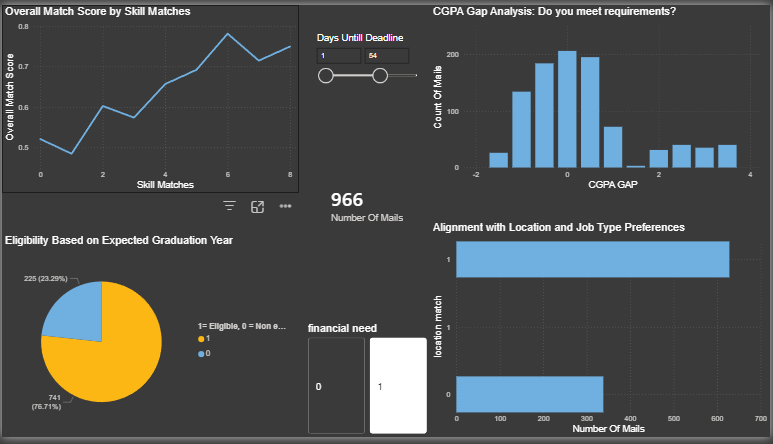

What the dashboard file says about the page in this screenshot:
{"tool":"powerbi","page":{"name":"Page 2","canvas":[1280,720],"ordinal":1},"visuals":[{"type":"lineChart","fields":{"Category":["match_scores.skills_overlap_count"],"Y":["Avg(match_scores.match_score)"]},"box":[0,0,495,313.3],"z":0},{"type":"clusteredColumnChart","title":"CGPA Gap Analysis: Do you meet requirements?","fields":{"Category":["match_scores.CGPA GAP"],"Y":["CountNonNull(match_scores.Row_Index)"]},"box":[712.9,0,557.1,312.9],"z":1000},{"type":"barChart","title":"Alignment with Location and Job Type Preferences","fields":{"Category":["match_scores.location_match"],"Y":["CountNonNull(match_scores.Row_Index)"]},"box":[712.9,360,567.1,360],"z":1001},{"type":"pieChart","title":"Eligibility Based on Expected Graduation Year","fields":{"Category":["match_scores.graduation_year_match"],"Y":["CountNonNull(match_scores.Row_Index)"]},"box":[0,381.7,483.3,338.3],"z":1002},{"type":"slicer","fields":{"Values":["match_scores.days_until_deadline"]},"box":[511.4,41.4,201.4,220],"z":1003},{"type":"advancedSlicerVisual","title":"financial need","fields":{"Values":["match_scores.financial_need"]},"box":[504.3,528.6,208.6,191.4],"z":1004},{"type":"cardVisual","fields":{"Data":["CountNonNull(match_scores.Row_Index)"]},"box":[518.6,242.9,187.1,175.7],"z":1005}]}

Visuals, with their boxes in screenshot pixels (x1, y1, x2, y2), scaled from the page's 1280x720 canvas onto the 773x444 screenshot:
lineChart - match_scores.skills_overlap_count x Avg(match_scores.match_score): (x1=0, y1=0, x2=299, y2=193)
"CGPA Gap Analysis: Do you meet requirements?" clusteredColumnChart: (x1=431, y1=0, x2=767, y2=193)
"Alignment with Location and Job Type Preferences" barChart: (x1=431, y1=222, x2=772, y2=443)
"Eligibility Based on Expected Graduation Year" pieChart: (x1=0, y1=235, x2=292, y2=443)
slicer - match_scores.days_until_deadline: (x1=309, y1=26, x2=430, y2=161)
"financial need" advancedSlicerVisual: (x1=305, y1=326, x2=431, y2=443)
cardVisual - CountNonNull(match_scores.Row_Index): (x1=313, y1=150, x2=426, y2=258)
